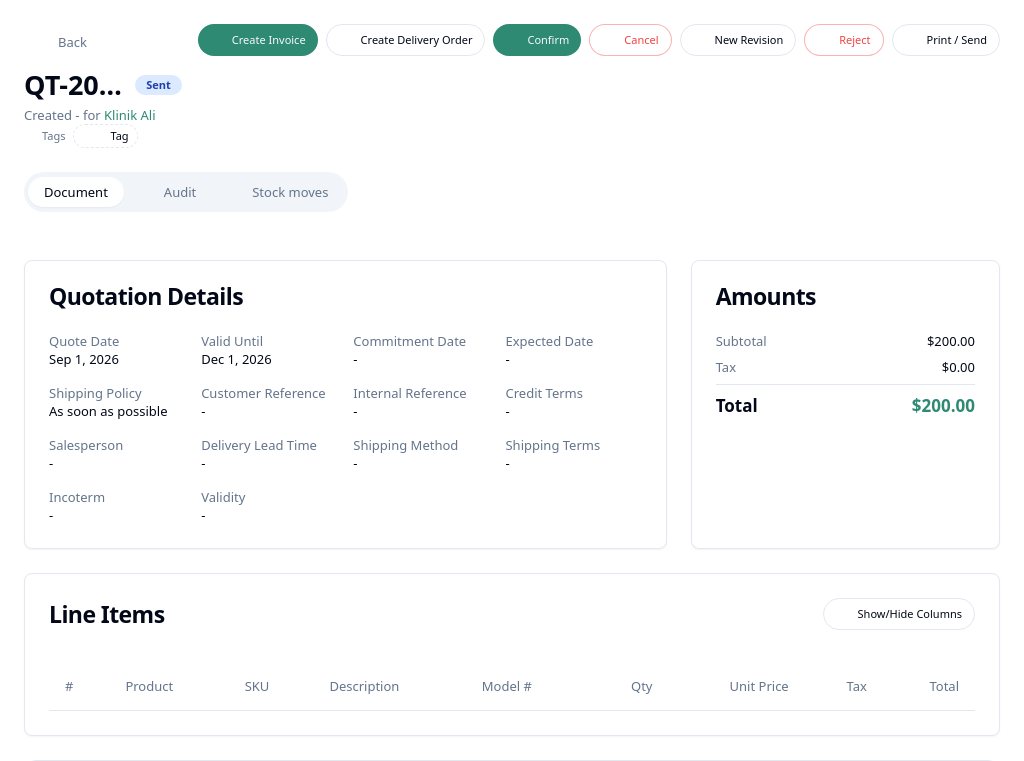
Test: QuotationDetailPage — Reject / New revision (#336) › creates a new revision through the same versioned endpoint with a revision reason
The image size is (1024, 761).
Click the button "New Revision".
click(738, 40)  # box [680, 24, 796, 56]
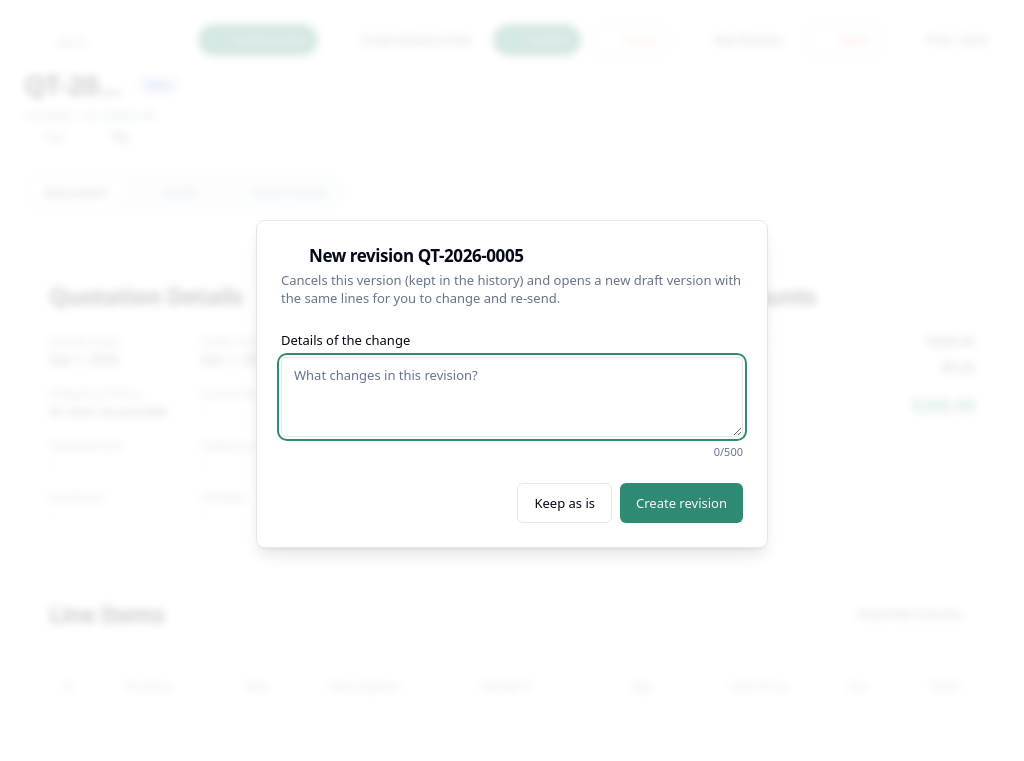
Type "Add installation line" into the text box labelled "Details of the change".
click(512, 397); type("Add installation line")  # box [281, 357, 743, 437]
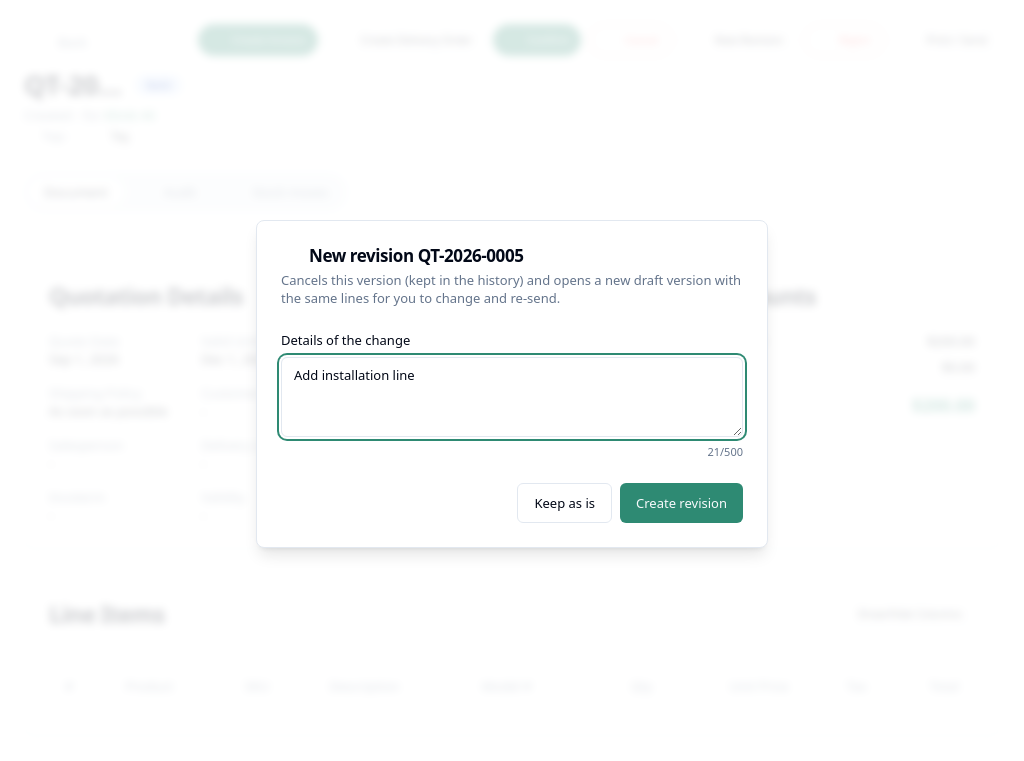
Click the button "Create revision".
click(682, 503)  # box [620, 483, 743, 523]
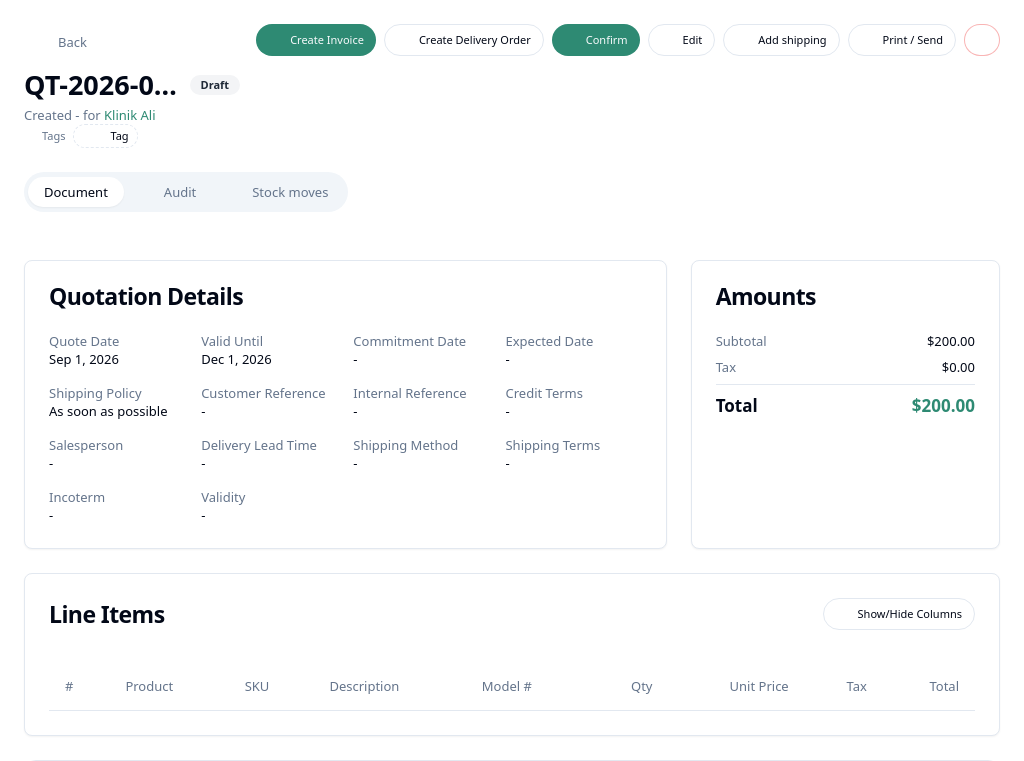
expect the heading "QT-2026-0005-R02" is shown: met, box [24, 68, 178, 102]
